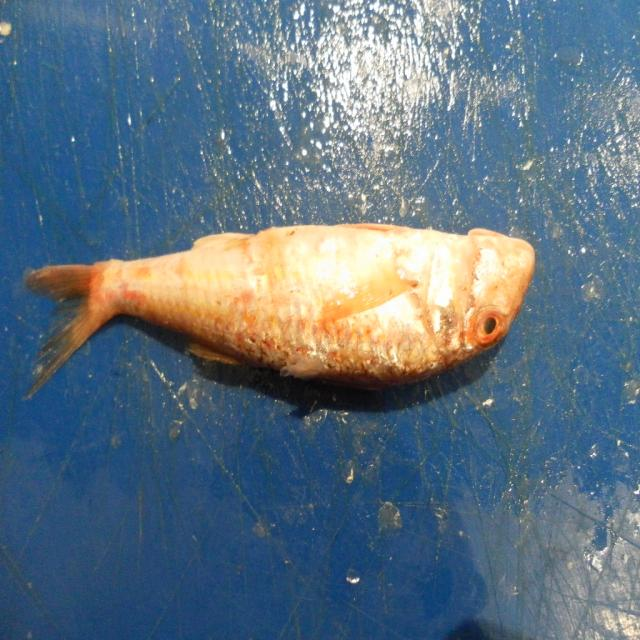Striped-Red-Mullet-tekir-: (22, 223, 537, 398)
